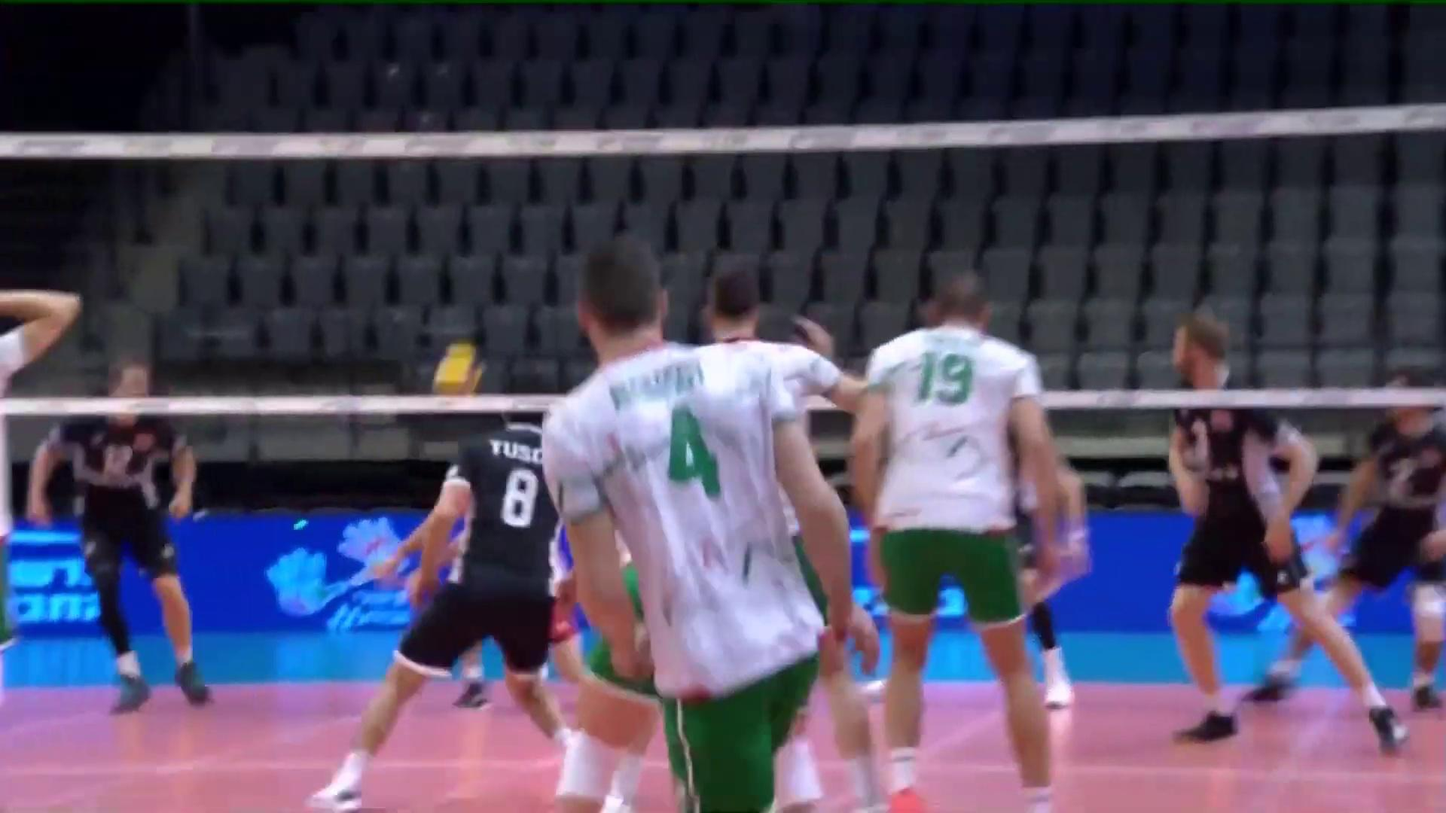ball: (431, 341, 488, 397)
